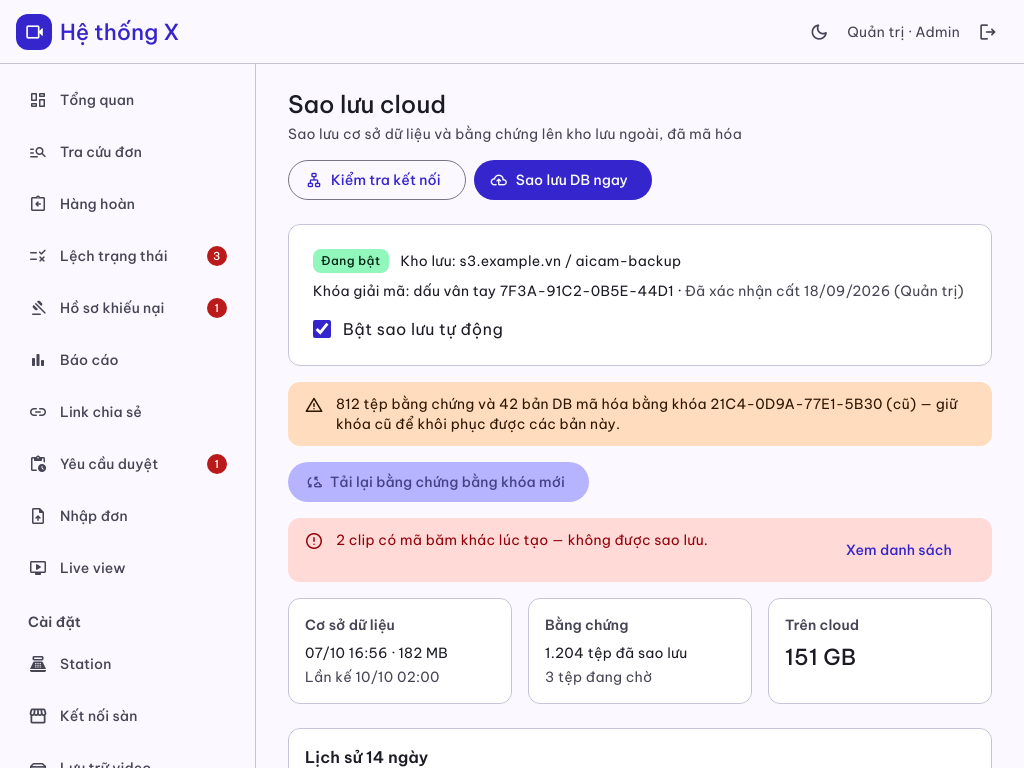
Test case: G2R2-9: sao lưu tắt → 'Tải lại…' khóa + tooltip; tab cũ gọi được → 409 BACKUP_DISABLED → Toast
Expected: the button "Kiểm tra kết nối" is shown, x1=288 y1=160 x2=466 y2=200
Click the button "Tải lại bằng chứng bằng khóa mới" at (438, 482), box x1=288 y1=462 x2=589 y2=502
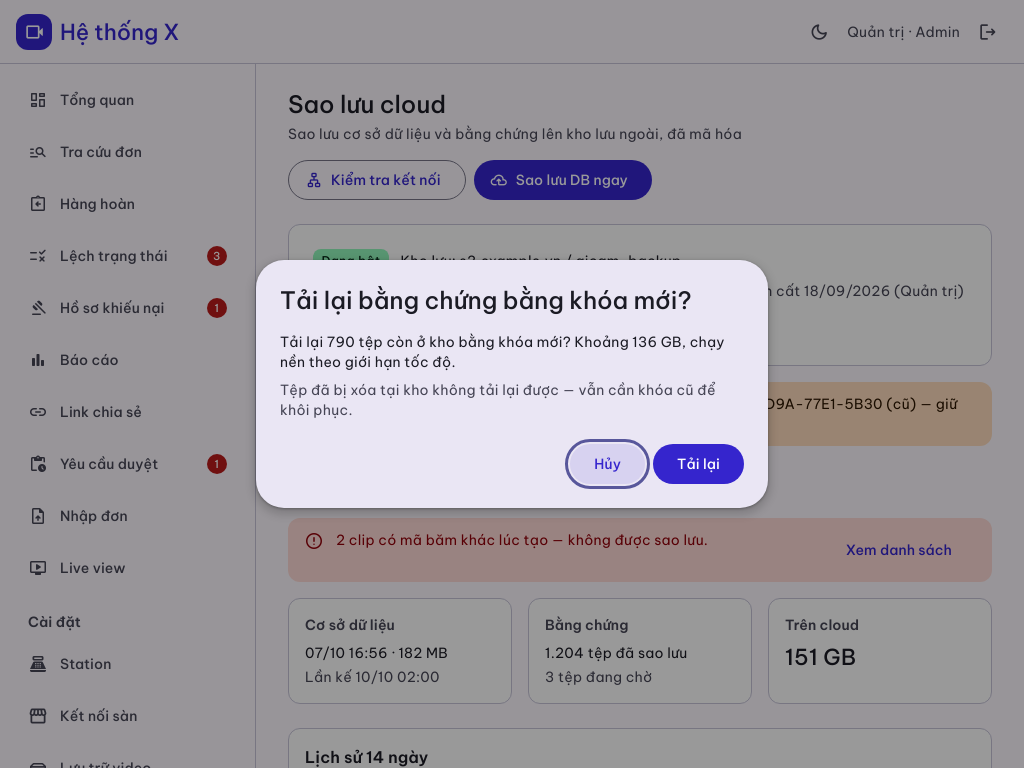
Click the button "Tải lại" at (698, 464), box x1=653 y1=444 x2=744 y2=484
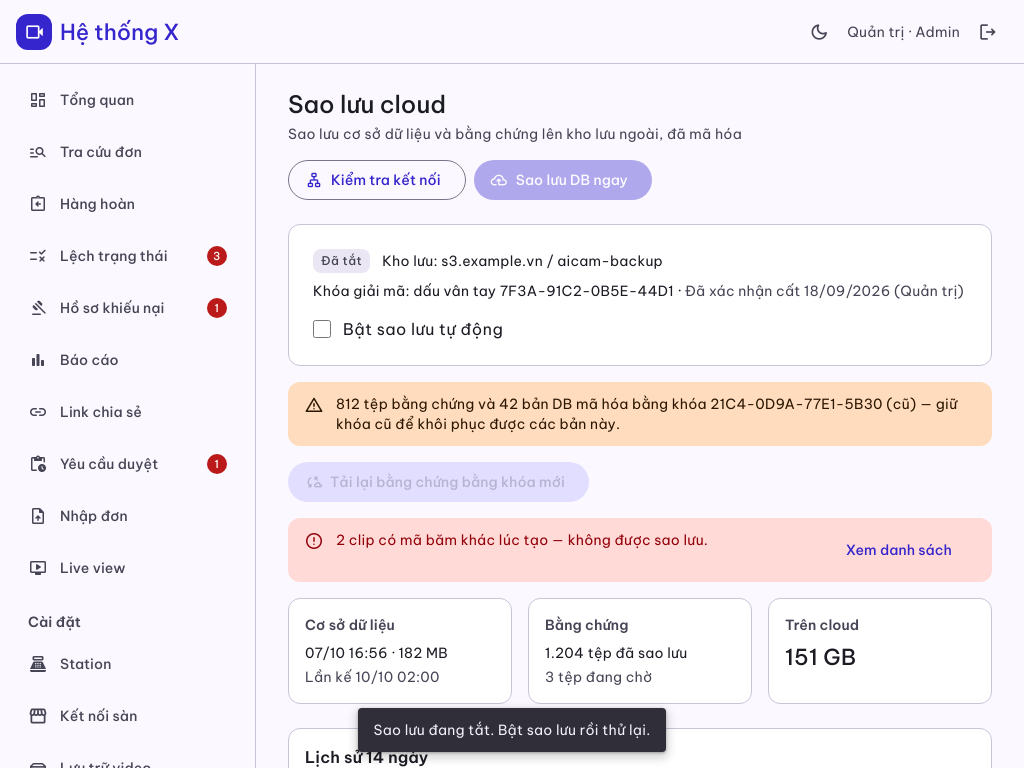
Result: the text "Sao lưu đang tắt. Bật sao lưu rồi thử lại." is shown at x1=358 y1=708 x2=666 y2=752
Result: the button "Tải lại bằng chứng bằng khóa mới" is disabled at x1=288 y1=462 x2=589 y2=502
